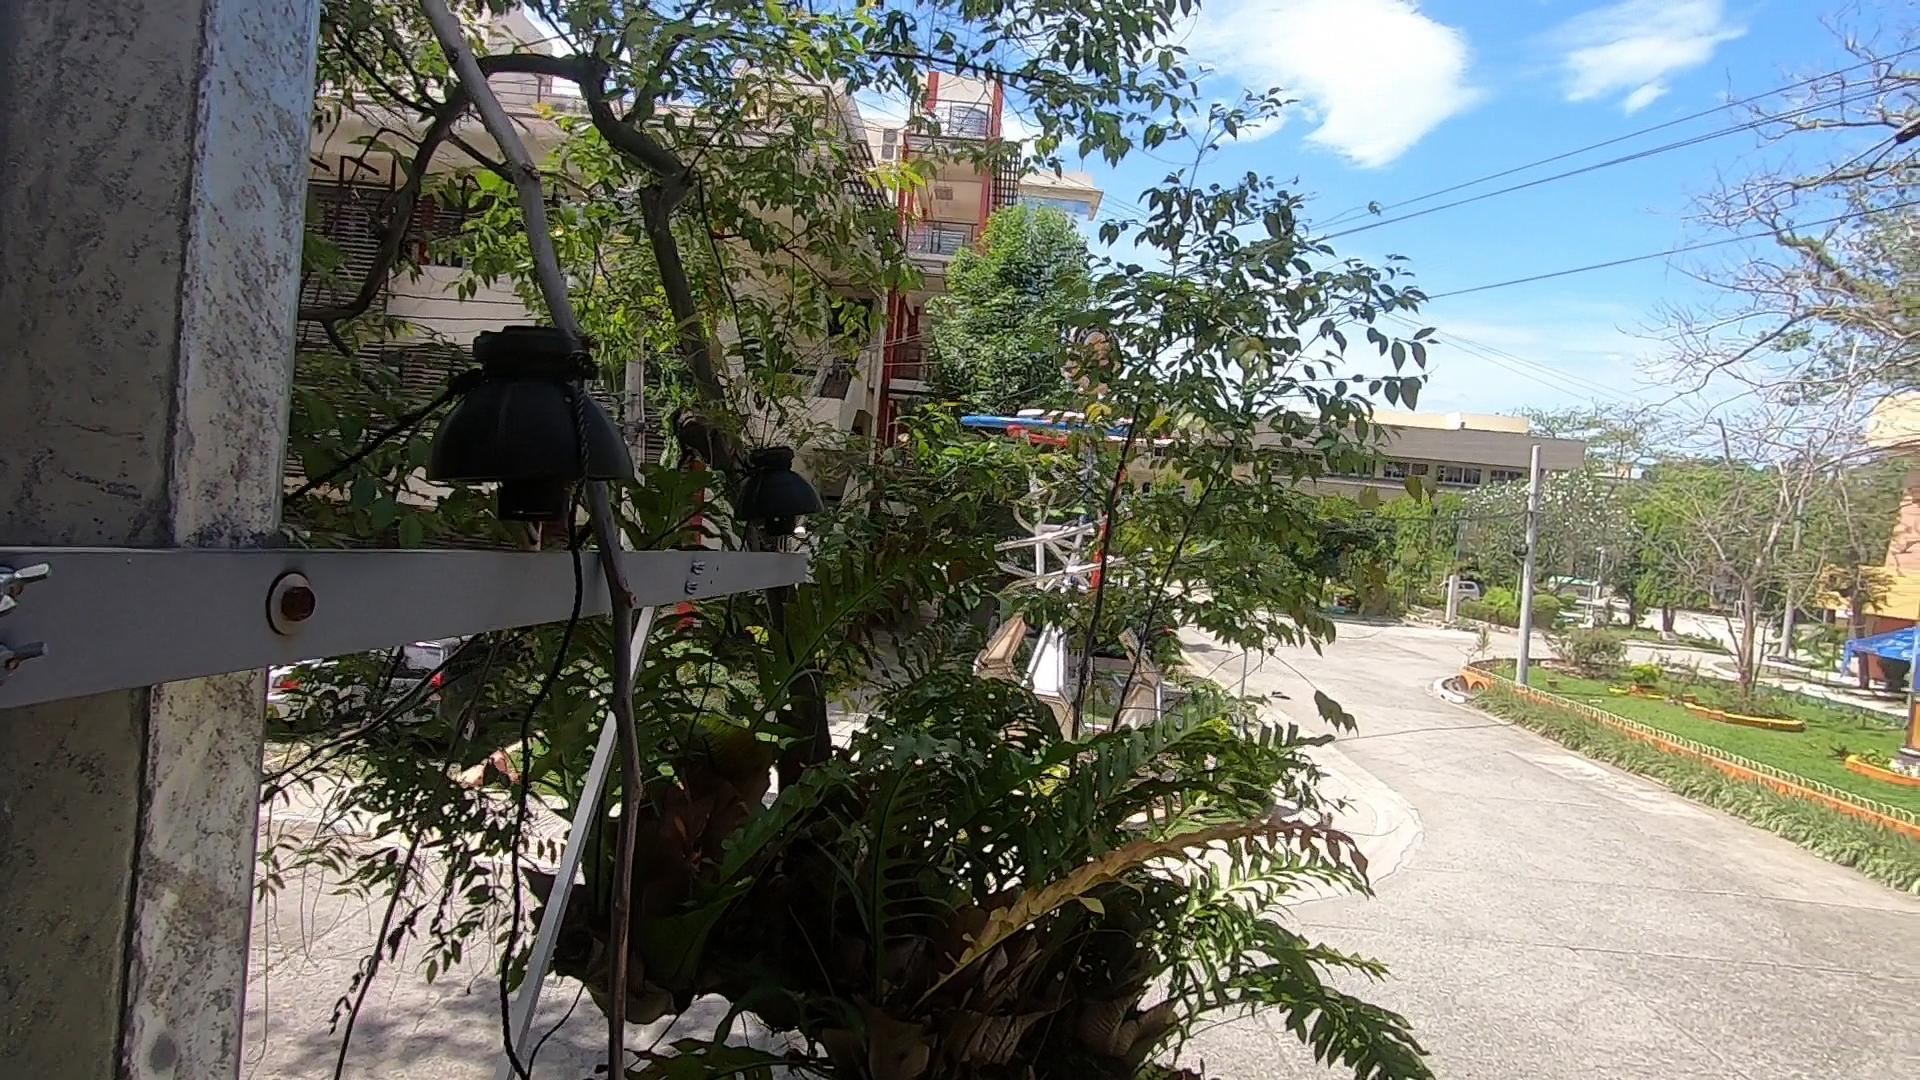tree branch: (344, 7, 789, 1059)
